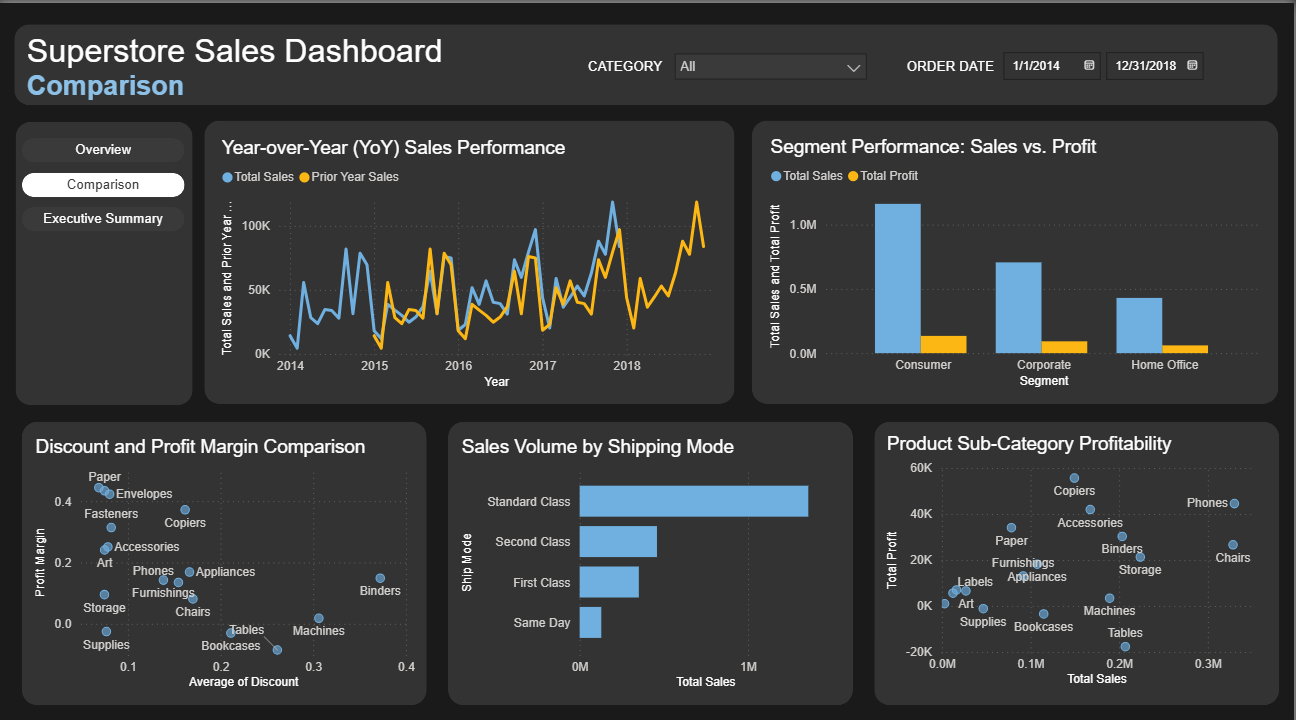

This screenshot's page, from the dashboard's own definition file:
{"tool":"powerbi","page":{"name":"Comparison","canvas":[1280,720],"ordinal":1},"visuals":[{"type":"shape","box":[16,20.8,1248,80],"z":0},{"type":"shape","box":[16.7,116.7,175,280],"z":1000},{"type":"shape","box":[203.8,116.2,523.8,280],"z":2000},{"type":"shape","box":[745,116.2,520,280],"z":3000},{"type":"shape","box":[865,413.3,400,280],"z":4000},{"type":"lineChart","title":"Year-over-Year (YoY) Sales Performance","fields":{"Y":["Sample - Superstore.Total Sales","Sample - Superstore.Prior Year Sales"],"Category":["Calendar.Date.Variation.Date Hierarchy.Year","Calendar.Date.Variation.Date Hierarchy.Quarter","Calendar.Date.Variation.Date Hierarchy.Month"]},"box":[215.8,131.7,500,253.3],"z":5000},{"type":"clusteredColumnChart","title":"Segment Performance: Sales vs. Profit","fields":{"Category":["Sample - Superstore.Segment"],"Y":["Sample - Superstore.Total Sales","Sample - Superstore.Total Profit"]},"box":[757.5,131.2,495,253.8],"z":6000},{"type":"shape","box":[23.3,413.3,400,280],"z":7000},{"type":"scatterChart","title":"Discount and Profit Margin Comparison","fields":{"Category":["Sample - Superstore.Sub-Category"],"X":["Avg(Sample - Superstore.Discount)"],"Y":["Sample - Superstore.Profit Margin"]},"box":[31.7,426.7,385,255],"z":8000},{"type":"pageNavigator","box":[22.9,132.9,161.4,92.9],"z":9000},{"type":"textbox","box":[23.3,24.4,503.3,51.1],"z":10000},{"type":"textbox","box":[23.3,62.2,300,54.4],"z":11000},{"type":"slicer","fields":{"Values":["Sample - Superstore.Category","Sample - Superstore.Sub-Category"]},"box":[657.7,39.4,210,47.9],"z":12000},{"type":"slicer","fields":{"Values":["Calendar.Date"]},"box":[980,38.6,226.4,47.9],"z":13000},{"type":"textbox","box":[578,50.8,108,32],"z":14000},{"type":"textbox","box":[892,50.8,108,32],"z":15000},{"type":"shape","box":[444.2,413.3,400,280],"z":16000},{"type":"scatterChart","title":"Product Sub-Category Profitability","fields":{"Category":["Sample - Superstore.Sub-Category"],"X":["Sample - Superstore.Total Sales"],"Y":["Sample - Superstore.Total Profit"]},"box":[873.3,425,385,255],"z":17000},{"type":"barChart","title":"Sales Volume by Shipping Mode","fields":{"Category":["Sample - Superstore.Ship Mode"],"Y":["Sample - Superstore.Total Sales"]},"box":[453.3,426.7,385,255],"z":18000}]}

Visuals, with their boxes in screenshot pixels (x1, y1, x2, y2), scaled from the page's 1280x720 canvas onto the 1296x720 screenshot:
shape: pyautogui.locateOnScreen(16, 21, 1280, 101)
shape: pyautogui.locateOnScreen(17, 117, 194, 397)
shape: pyautogui.locateOnScreen(206, 116, 737, 396)
shape: pyautogui.locateOnScreen(754, 116, 1281, 396)
shape: pyautogui.locateOnScreen(876, 413, 1281, 693)
"Year-over-Year (YoY) Sales Performance" lineChart: pyautogui.locateOnScreen(218, 132, 725, 385)
"Segment Performance: Sales vs. Profit" clusteredColumnChart: pyautogui.locateOnScreen(767, 131, 1268, 385)
shape: pyautogui.locateOnScreen(24, 413, 429, 693)
"Discount and Profit Margin Comparison" scatterChart: pyautogui.locateOnScreen(32, 427, 422, 682)
pageNavigator: pyautogui.locateOnScreen(23, 133, 187, 226)
textbox: pyautogui.locateOnScreen(24, 24, 533, 76)
textbox: pyautogui.locateOnScreen(24, 62, 327, 117)
slicer - Sample - Superstore.Category x Sample - Superstore.Sub-Category: pyautogui.locateOnScreen(666, 39, 879, 87)
slicer - Calendar.Date: pyautogui.locateOnScreen(992, 39, 1221, 86)
textbox: pyautogui.locateOnScreen(585, 51, 695, 83)
textbox: pyautogui.locateOnScreen(903, 51, 1012, 83)
shape: pyautogui.locateOnScreen(450, 413, 855, 693)
"Product Sub-Category Profitability" scatterChart: pyautogui.locateOnScreen(884, 425, 1274, 680)
"Sales Volume by Shipping Mode" barChart: pyautogui.locateOnScreen(459, 427, 849, 682)
